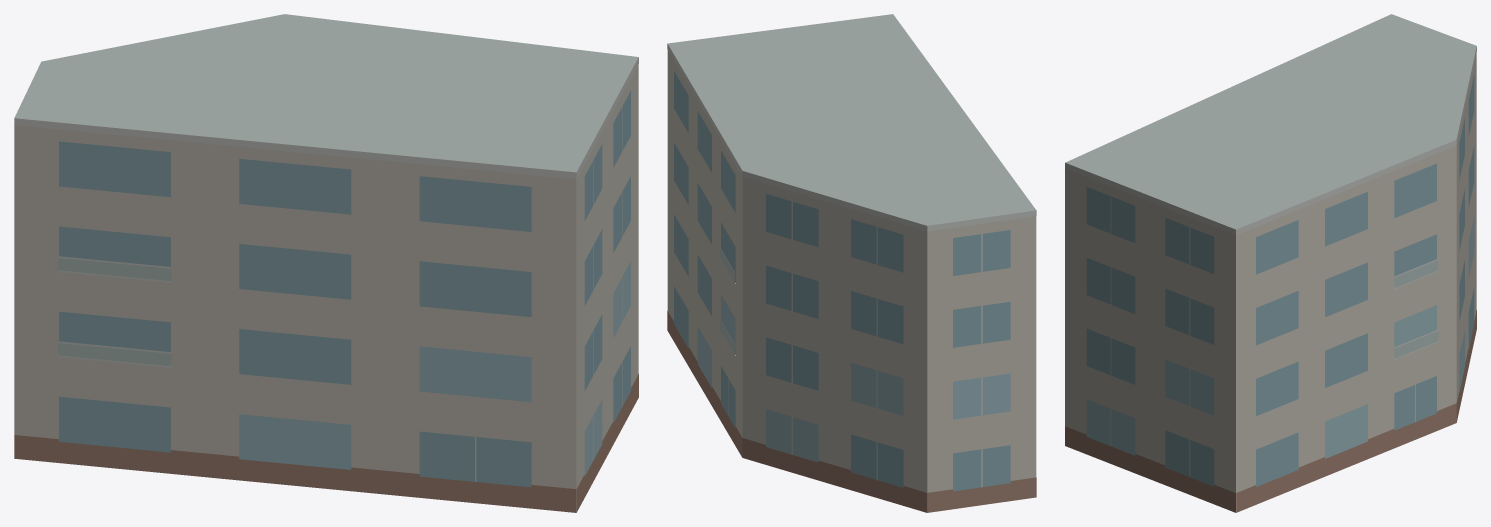
Rendered from survey-upis-32722691.glb.
3 views of the same model, side by side, from view 1: azimuth 30°, elevation 25°; view 2: azimuth 150°, elevation 25°; view 3: azimuth 270°, elevation 25° (orthographic). The views are drawn at different scales.
Visible parts, largest first — view 1: survey-upis-32722691.tmp; view 2: survey-upis-32722691.tmp; view 3: survey-upis-32722691.tmp.
Part boxes in pixels (box(x1,y1,x2,y2)): survey-upis-32722691.tmp: box(14, 14, 638, 512); survey-upis-32722691.tmp: box(667, 14, 1036, 512); survey-upis-32722691.tmp: box(1065, 14, 1476, 512).
Bounding box in the file's own units: 19.76 × 12.1 × 15.95.
